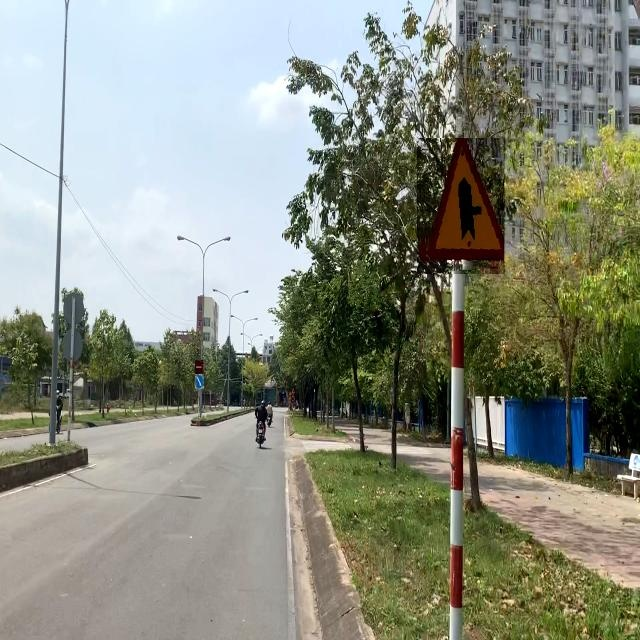bien_nguy_hiem: (418, 138, 506, 274), (195, 374, 204, 389), (196, 360, 203, 374), (291, 387, 296, 394), (291, 396, 296, 402)
